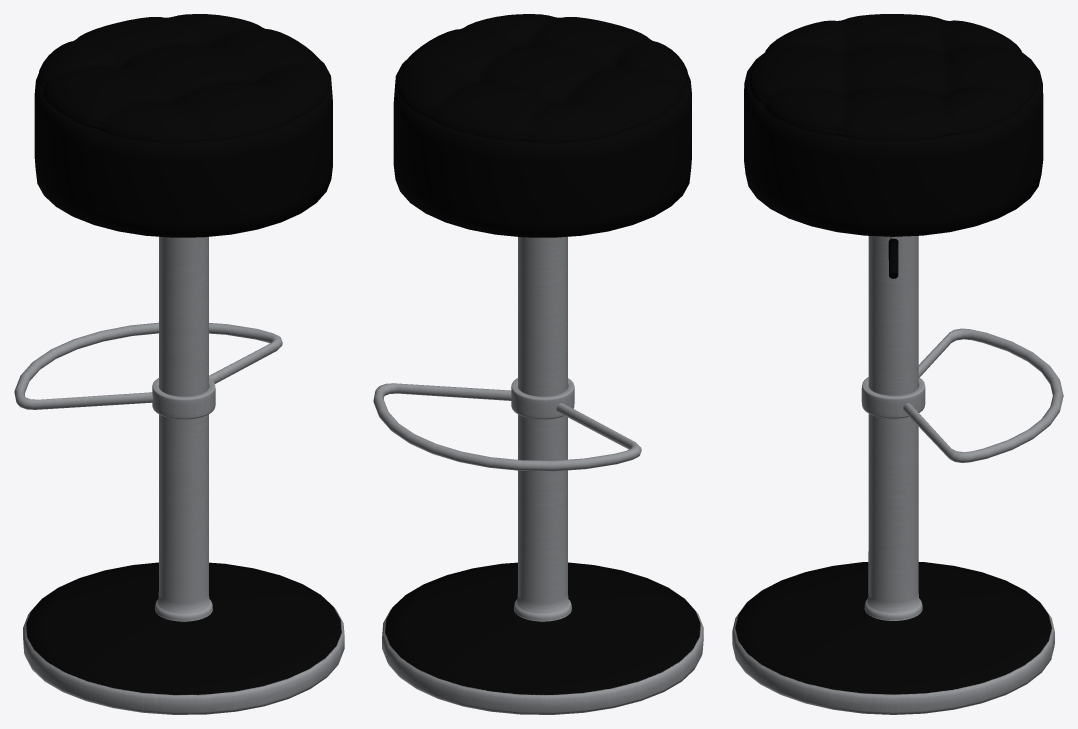
The model's file is Chair43.fbx.
3 renders of one model, left to right at view 1: azimuth 30°, elevation 25°; view 2: azimuth 150°, elevation 25°; view 3: azimuth 270°, elevation 25°, orthographic.
Visible parts, largest first — view 1: Chair43; view 2: Chair43; view 3: Chair43.
Part boxes in pixels (box(x1,y1,x2,y2)): Chair43: box(14, 14, 344, 714); Chair43: box(373, 14, 703, 714); Chair43: box(732, 14, 1063, 714).
Size of the model in its own units: 38.89 by 78.3 by 39.95.
